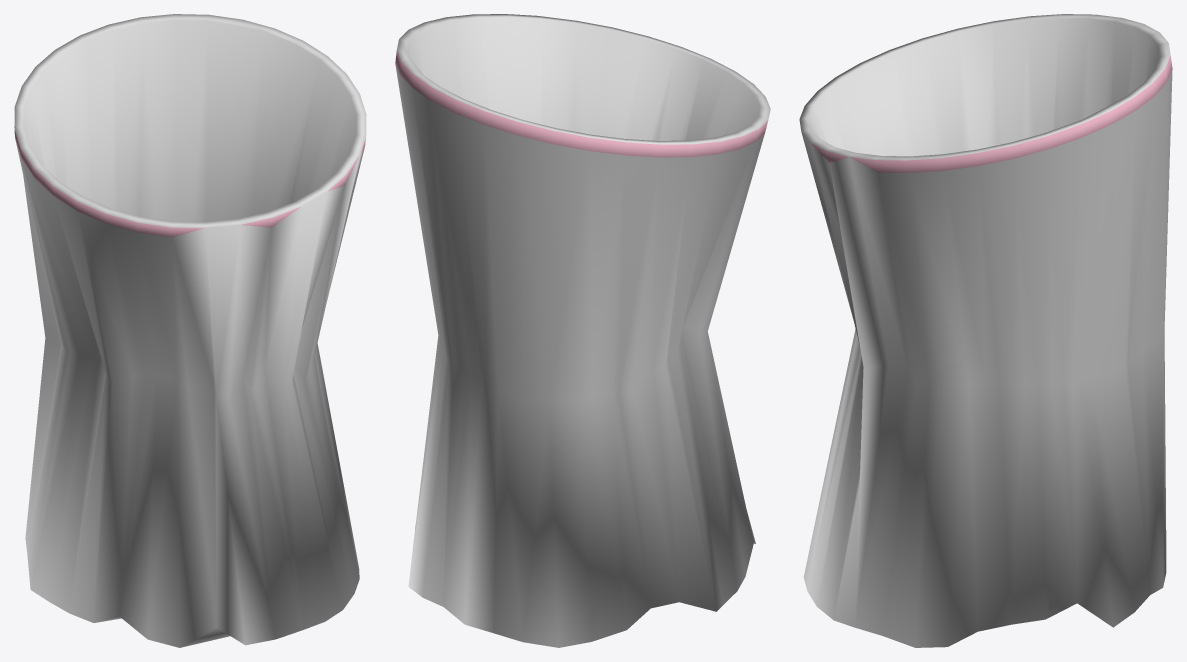
Rendered from casa zgazena3.fbx.
3 renders of one model, left to right at view 1: azimuth 30°, elevation 25°; view 2: azimuth 150°, elevation 25°; view 3: azimuth 270°, elevation 25°, orthographic. The views are drawn at different scales.
Parts seen in each view (by area): view 1: cup zguzvan2.001; view 2: cup zguzvan2.001; view 3: cup zguzvan2.001.
Part boxes in pixels (x1,y1,x2,y2): cup zguzvan2.001: (14,14,366,647); cup zguzvan2.001: (395,14,770,647); cup zguzvan2.001: (799,14,1172,647).
Size of the model in its own units: 19.1 by 29.42 by 18.86.
